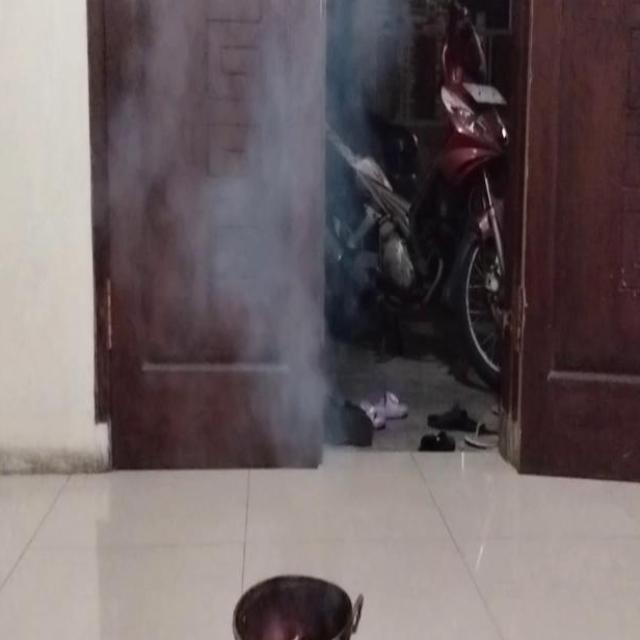fire: (142, 6, 348, 459)
